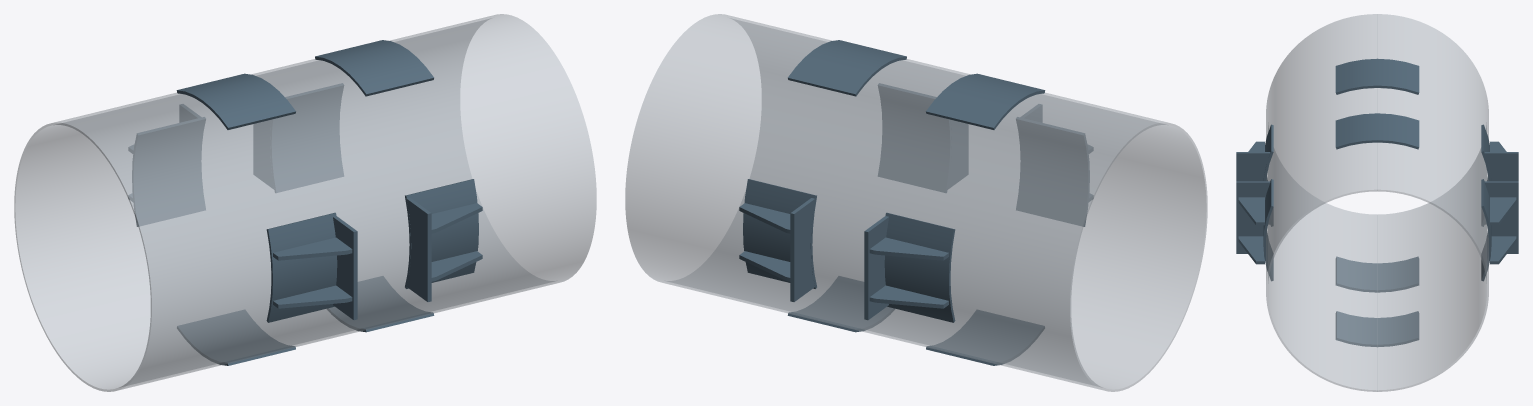
Rendered from TS-663.00.00-10-opora-dn1020.glb.
The picture shows the model from 3 angles, left to right: view 1: azimuth 30°, elevation 25°; view 2: azimuth 150°, elevation 25°; view 3: azimuth 270°, elevation 25°; orthographic projection. The views are drawn at different scales.
Visible parts, largest first — view 1: truba, det_16, det_12, det_8, det_18, det_17, det_20, det_4, det_19, det_1, det_5, det_9 (+4 smaller); view 2: truba, det_8, det_4, det_16, det_18, det_17, det_20, det_12, det_19, det_9, det_13, det_1 (+4 smaller); view 3: truba, det_17, det_18, det_20, det_19, det_1, det_9, det_5, det_13, det_4, det_12, det_2 (+5 smaller).
Part boxes in pixels (left/top/right/bottom): truba: left=14, top=14, right=596, bottom=391; det_16: left=132, top=117, right=205, bottom=226; det_12: left=270, top=83, right=343, bottom=192; det_8: left=266, top=212, right=337, bottom=322; det_18: left=176, top=73, right=295, bottom=129; det_17: left=315, top=40, right=433, bottom=96; det_20: left=177, top=310, right=295, bottom=365; det_4: left=405, top=179, right=478, bottom=288; det_19: left=327, top=276, right=434, bottom=332; det_1: left=407, top=198, right=431, bottom=301; det_5: left=333, top=216, right=357, bottom=320; det_9: left=253, top=120, right=273, bottom=188; truba: left=625, top=14, right=1207, bottom=391; det_8: left=1016, top=117, right=1089, bottom=226; det_4: left=878, top=83, right=951, bottom=192; det_16: left=884, top=212, right=955, bottom=322; det_18: left=926, top=73, right=1045, bottom=129; det_17: left=788, top=40, right=906, bottom=96; det_20: left=926, top=310, right=1044, bottom=365; det_12: left=743, top=179, right=816, bottom=288; det_19: left=787, top=276, right=894, bottom=332; det_9: left=790, top=198, right=814, bottom=301; det_13: left=864, top=216, right=888, bottom=320; det_1: left=948, top=120, right=968, bottom=188; truba: left=1266, top=14, right=1488, bottom=391; det_17: left=1335, top=113, right=1419, bottom=149; det_18: left=1335, top=58, right=1419, bottom=94; det_20: left=1335, top=256, right=1419, bottom=292; det_19: left=1335, top=311, right=1419, bottom=346; det_1: left=1236, top=181, right=1270, bottom=253; det_9: left=1484, top=181, right=1518, bottom=253; det_5: left=1236, top=152, right=1270, bottom=224; det_13: left=1484, top=152, right=1518, bottom=224; det_4: left=1263, top=179, right=1273, bottom=281; det_12: left=1481, top=179, right=1491, bottom=281; det_2: left=1238, top=197, right=1264, bottom=225.
Size of the model in its own units: 1900 by 1044 by 1290.
